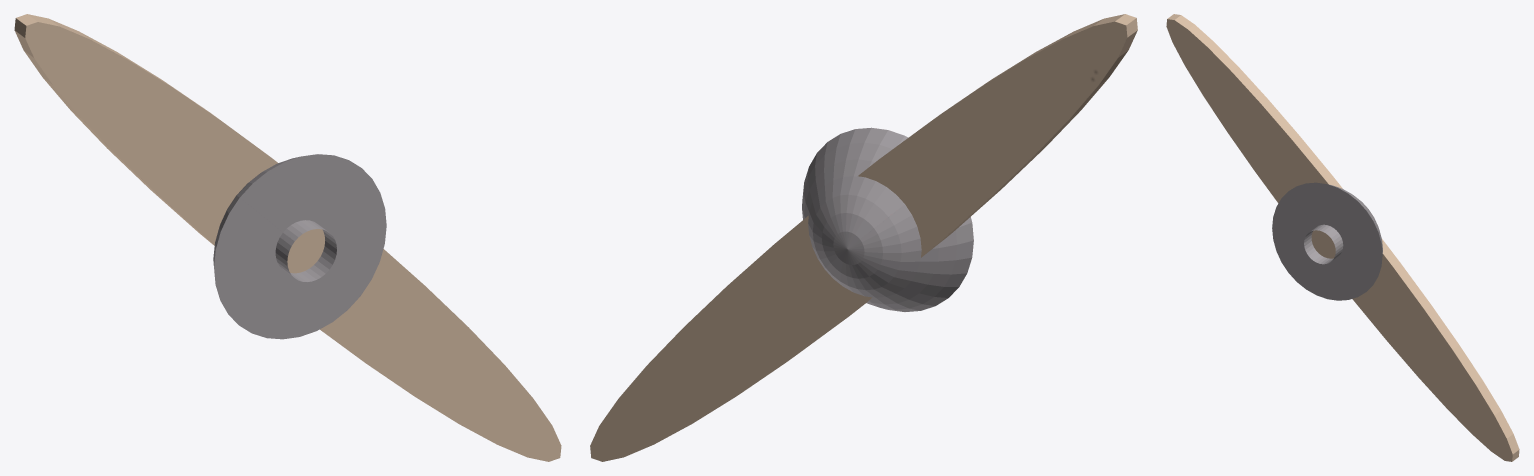
Rendered from Helice.obj.
3 renders of one model, left to right at view 1: azimuth 30°, elevation 25°; view 2: azimuth 150°, elevation 25°; view 3: azimuth 330°, elevation 25°, orthographic. The views are drawn at different scales.
Visible parts, largest first — view 1: Avioneta.E; view 2: Avioneta.E; view 3: Avioneta.E.
Boxes of the visible parts, <box> form: Avioneta.E: <box>14,14,561,461</box>; Avioneta.E: <box>590,14,1137,461</box>; Avioneta.E: <box>1166,14,1519,461</box>.
Bounding box in the file's own units: 1.54 × 1.55 × 0.2656.
1 material, 1 textured.
